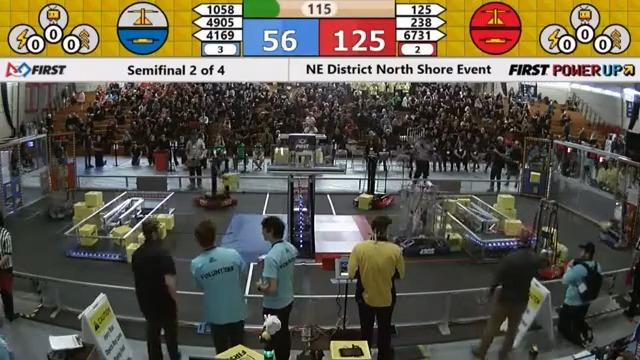robot: (519, 198, 573, 280), (394, 184, 451, 260), (194, 155, 243, 212), (351, 154, 396, 212), (38, 180, 75, 221)
